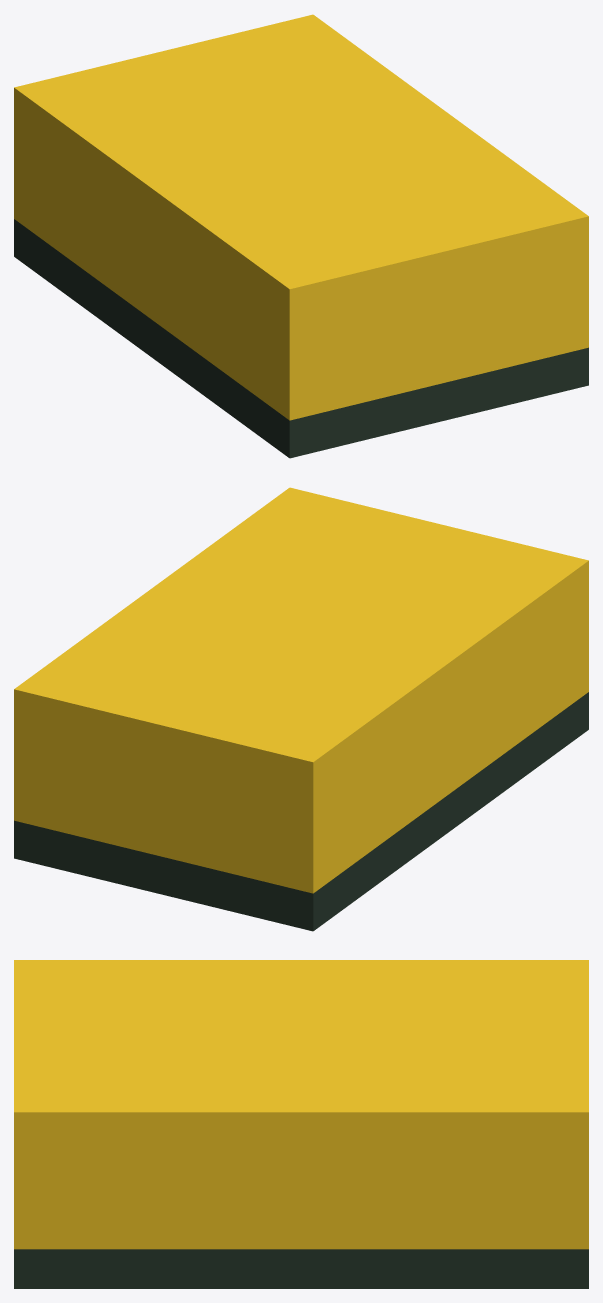
File: SM_sponge_01.glb
3 renders of one model, top to bottom at view 1: azimuth 30°, elevation 25°; view 2: azimuth 150°, elevation 25°; view 3: azimuth 270°, elevation 25°, orthographic. The views are drawn at different scales.
Visible parts, largest first — view 1: SM_sponge_01; view 2: SM_sponge_01; view 3: SM_sponge_01.
Part boxes in pixels (x1,y1,x2,y2): SM_sponge_01: [14, 14, 588, 458]; SM_sponge_01: [14, 487, 588, 931]; SM_sponge_01: [14, 960, 588, 1288].
Size of the model in its own units: 0.1011 by 0.0546 by 0.1614.
Materials: 1 (1 with a texture image).
